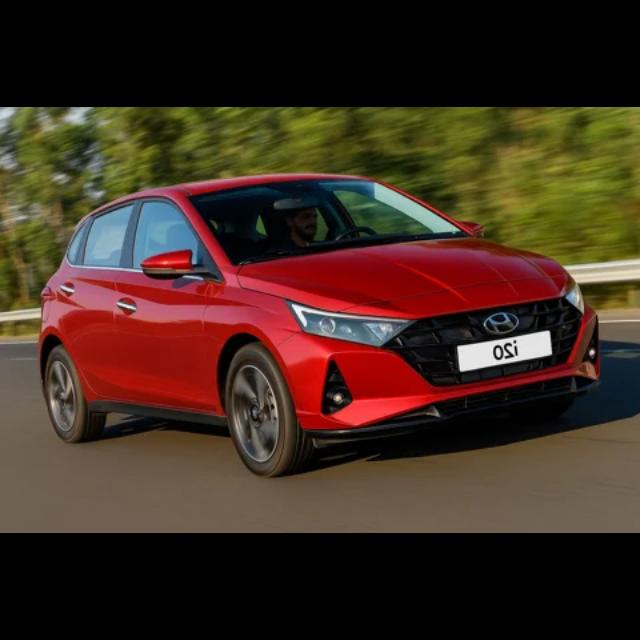number-plate: (461, 328, 554, 372)
vehicles: (30, 180, 611, 480)
